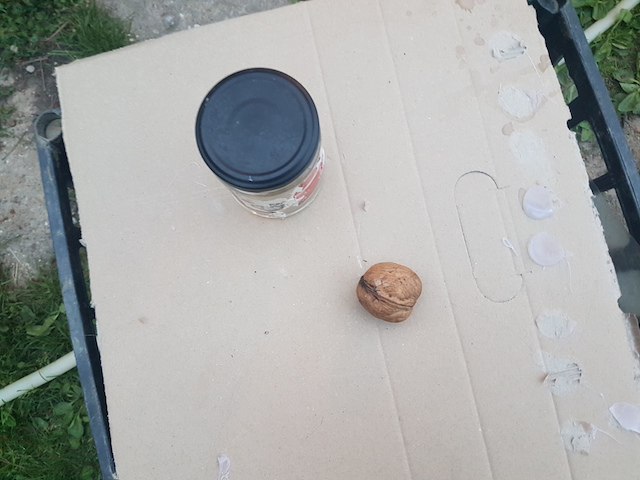nut: (354, 256, 426, 323)
recipient: (190, 66, 321, 191)
